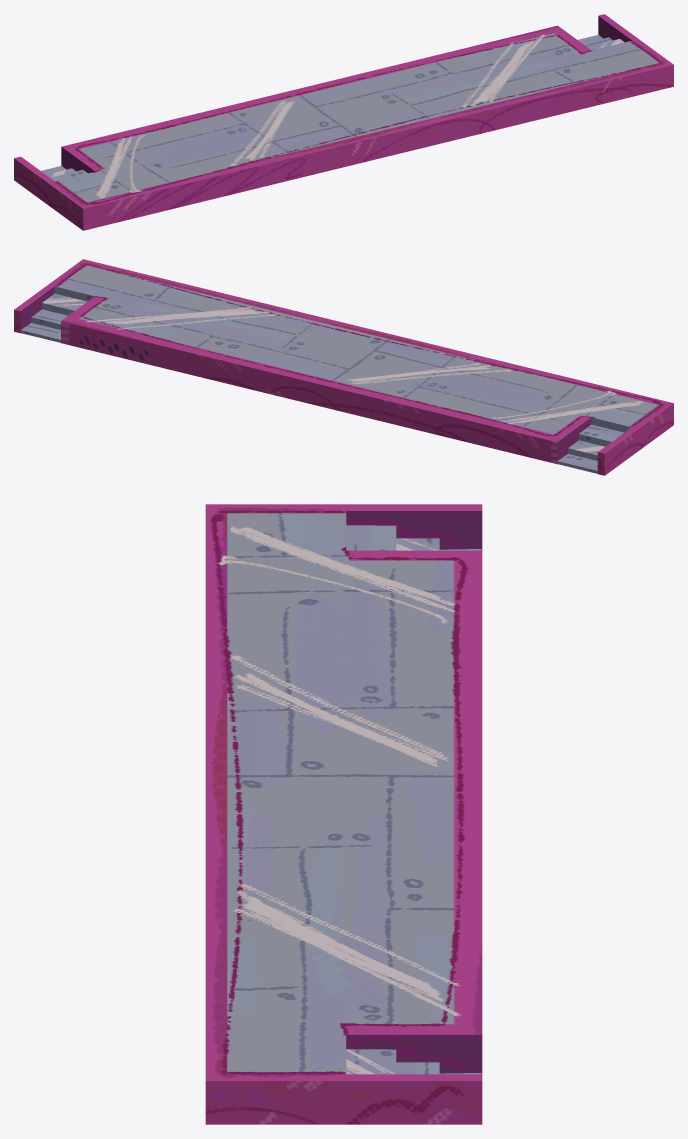
The model's file is PlatformFW_FINAL.fbx.
3 views of the same model, one above another, from view 1: azimuth 30°, elevation 25°; view 2: azimuth 150°, elevation 25°; view 3: azimuth 270°, elevation 25° (orthographic). The views are drawn at different scales.
Visible parts, largest first — view 1: Plane; view 2: Plane; view 3: Plane.
Part boxes in pixels (box(x1,y1,x2,y2)): Plane: box(14, 14, 673, 230); Plane: box(14, 259, 673, 475); Plane: box(205, 504, 482, 1124).
Bounding box in the file's own units: 33.95 × 1.21 × 6.89.
